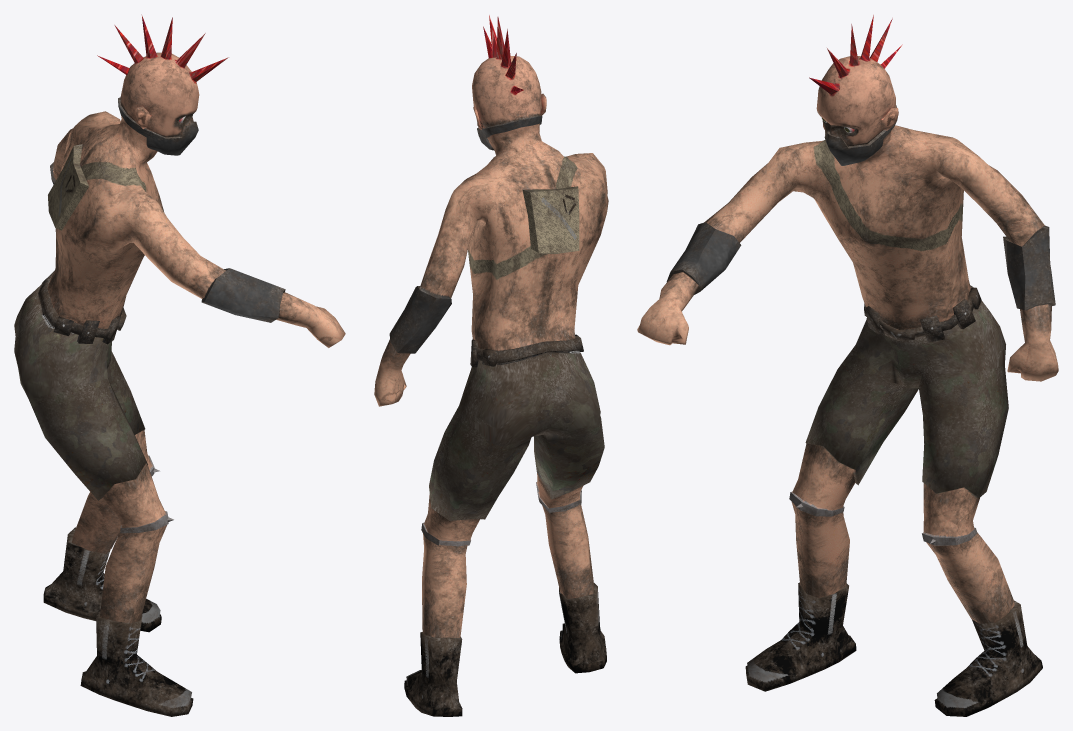
The model's file is Anim_interruptor_npc2.0028.obj.
The picture shows the model from 3 angles, left to right: view 1: azimuth 30°, elevation 25°; view 2: azimuth 150°, elevation 25°; view 3: azimuth 270°, elevation 25°; orthographic projection. The views are drawn at different scales.
Parts seen in each view (by area): view 1: polySurface1; view 2: polySurface1; view 3: polySurface1.
Part boxes in pixels (x1,y1,x2,y2): polySurface1: (14,14,345,716); polySurface1: (374,15,608,716); polySurface1: (637,15,1058,716).
Size of the model in its own units: 3.19 by 9.66 by 5.44.
